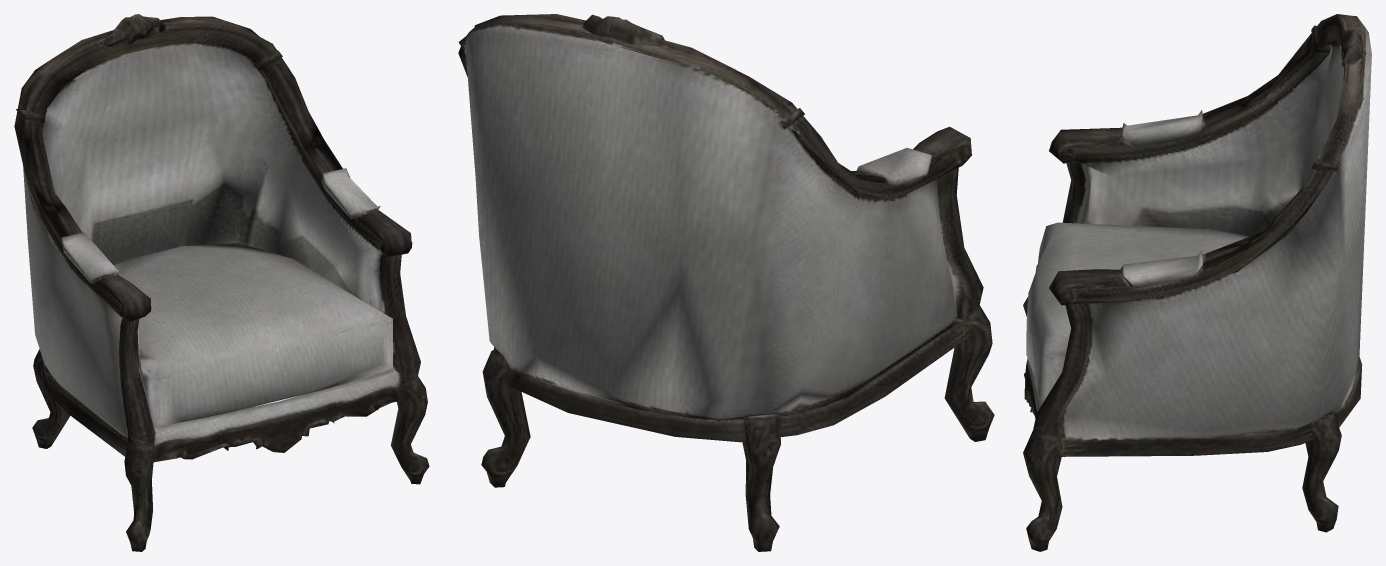
The model's file is armchair.glb.
3 views of the same model, side by side, from view 1: azimuth 30°, elevation 25°; view 2: azimuth 150°, elevation 25°; view 3: azimuth 270°, elevation 25° (orthographic). The views are drawn at different scales.
Parts seen in each view (by area): view 1: lo; view 2: lo; view 3: lo.
Part boxes in pixels (x1,y1,x2,y2): lo: (14, 14, 429, 551); lo: (458, 14, 994, 551); lo: (1023, 14, 1371, 551).
Bounding box in the file's own units: 0.8476 × 1.06 × 0.7658.
Materials: 1 (1 with a texture image).
